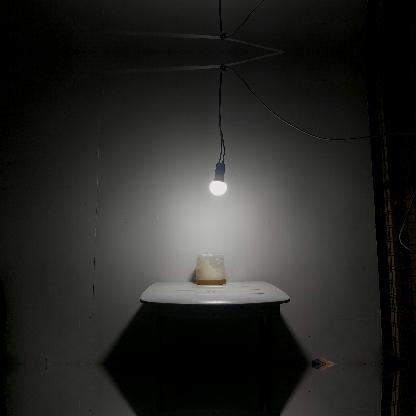Lady-s-Choice: (194, 252, 226, 284)
